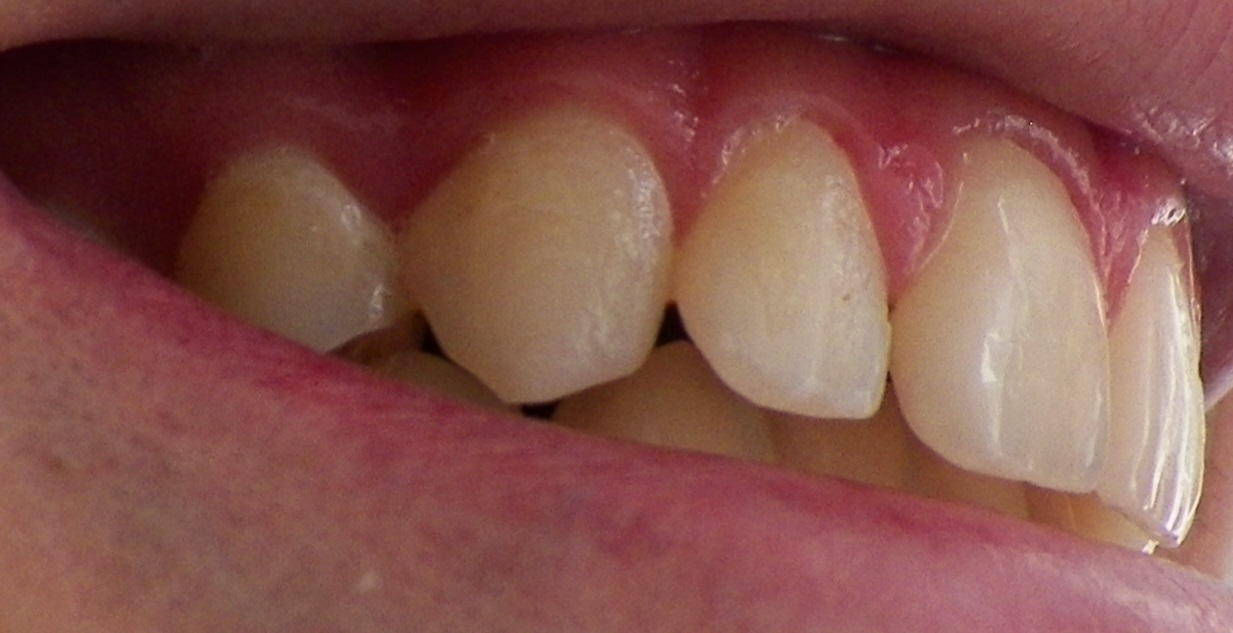boca: (120, 88, 1209, 569)
